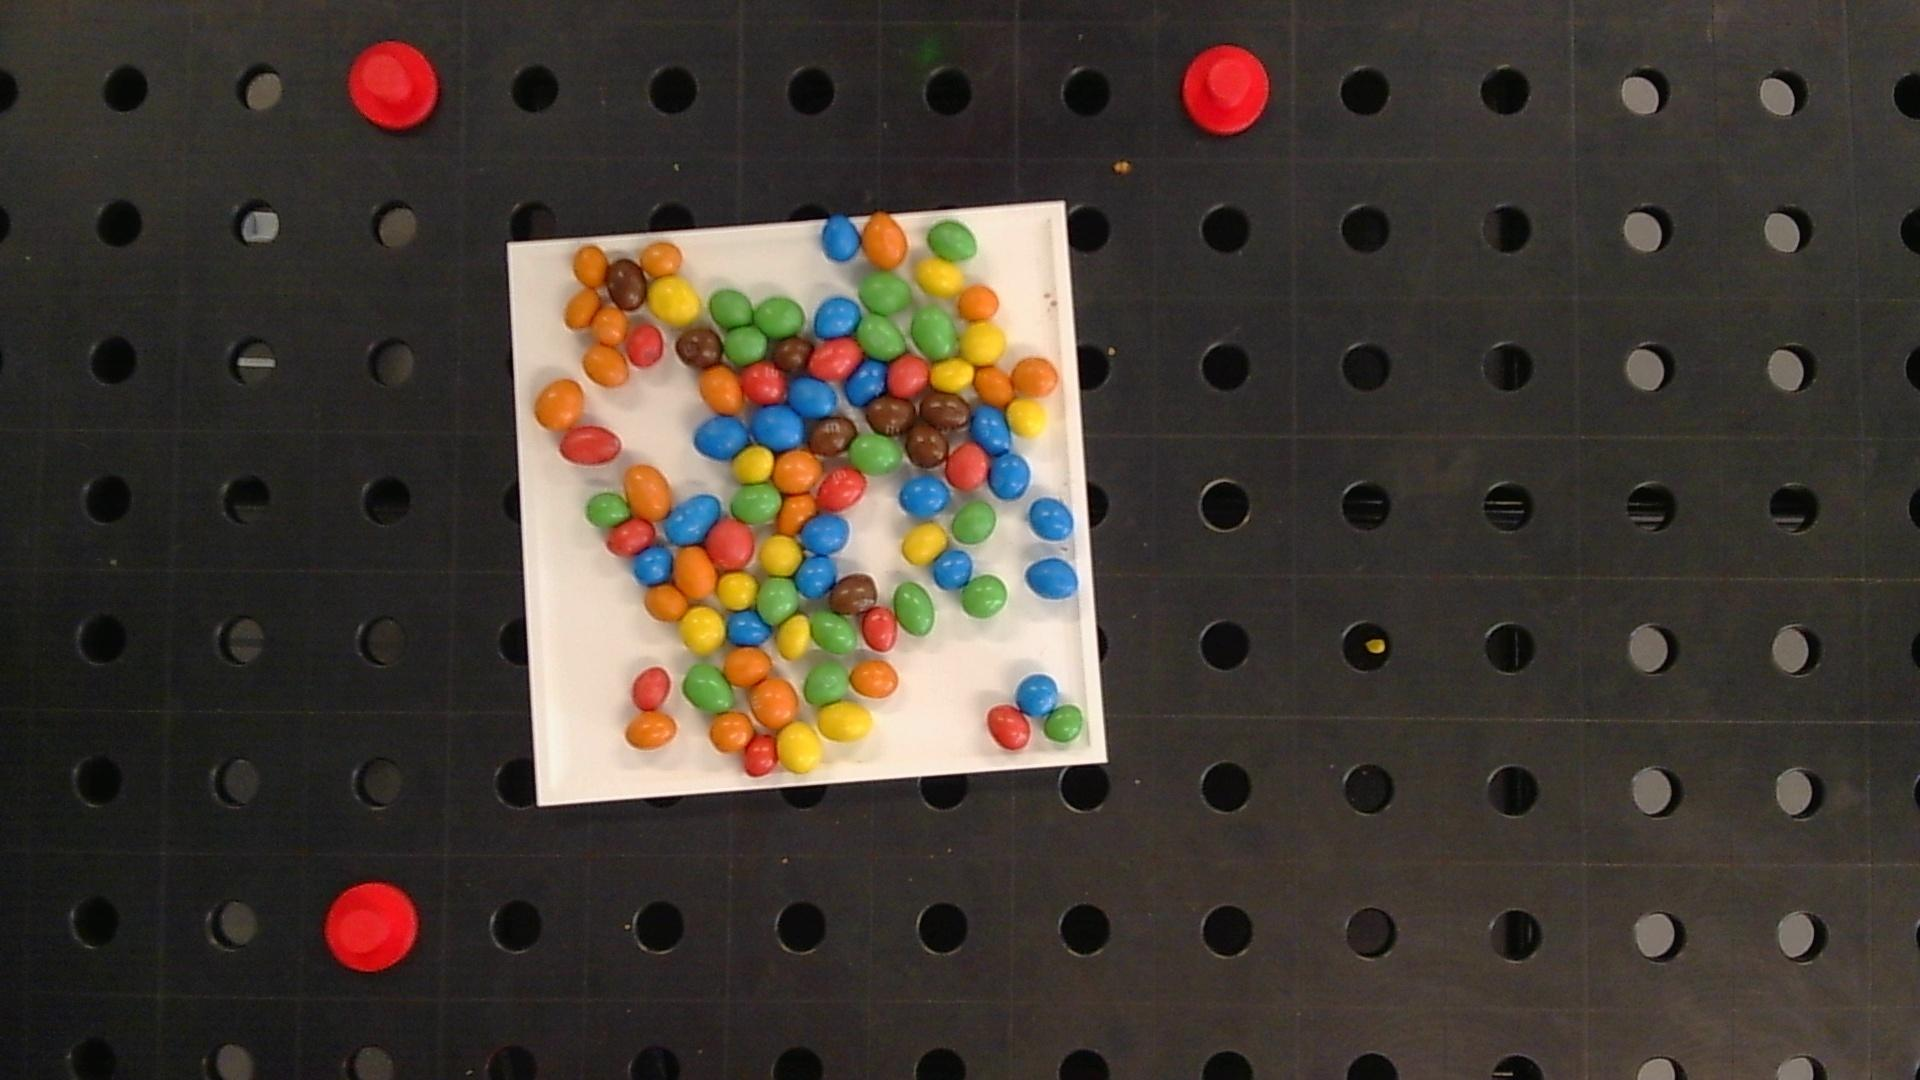blue: (666, 493, 720, 545), (694, 415, 750, 460), (752, 405, 804, 448), (1026, 559, 1077, 599), (901, 475, 949, 516), (1029, 498, 1073, 541), (989, 452, 1030, 498), (803, 513, 849, 554), (971, 406, 1010, 454), (789, 377, 836, 417), (822, 215, 861, 261), (814, 298, 861, 336), (1017, 674, 1059, 715), (845, 361, 886, 404), (796, 555, 836, 596), (727, 611, 771, 645), (934, 551, 973, 589), (634, 549, 673, 585)
brown: (607, 258, 646, 310), (866, 397, 915, 435), (832, 574, 877, 615), (906, 422, 947, 467), (810, 417, 856, 455), (922, 393, 969, 430), (676, 330, 721, 367), (771, 336, 812, 372)
green: (683, 665, 732, 711), (911, 309, 957, 357), (894, 582, 935, 636), (857, 315, 907, 359), (849, 433, 902, 473), (860, 273, 911, 314), (754, 297, 804, 338), (961, 575, 1007, 618), (811, 611, 856, 654), (758, 576, 799, 624), (928, 222, 977, 261), (732, 485, 782, 524), (804, 662, 849, 704), (952, 502, 997, 543), (724, 326, 767, 365), (1043, 705, 1085, 744), (709, 289, 753, 326), (585, 492, 630, 527)
orange: (625, 464, 671, 520), (534, 378, 583, 429), (862, 214, 907, 268), (750, 679, 798, 728), (674, 547, 716, 597), (700, 367, 742, 413), (583, 345, 629, 386), (849, 661, 899, 698), (625, 713, 676, 749), (1011, 357, 1059, 396), (709, 712, 754, 752), (774, 451, 819, 491), (725, 647, 770, 684), (645, 584, 688, 621), (975, 367, 1013, 405), (574, 245, 608, 286), (641, 243, 682, 277), (779, 495, 816, 531), (564, 289, 600, 327), (592, 306, 628, 344), (959, 286, 1000, 319)
red: (559, 427, 621, 464), (707, 520, 754, 567), (808, 339, 861, 378), (816, 468, 866, 509), (986, 704, 1031, 749), (947, 444, 989, 489), (607, 517, 655, 555), (740, 364, 787, 402), (632, 667, 671, 709), (887, 356, 928, 396), (862, 607, 897, 651), (626, 326, 665, 365), (744, 737, 778, 775)
yellow: (649, 277, 700, 324), (816, 702, 873, 741), (778, 723, 820, 773), (680, 608, 725, 653), (902, 524, 947, 564), (916, 260, 964, 297), (961, 324, 1006, 363), (761, 535, 802, 574), (1007, 400, 1047, 438), (931, 359, 973, 392), (719, 574, 757, 609), (735, 447, 774, 481), (778, 617, 811, 658)
